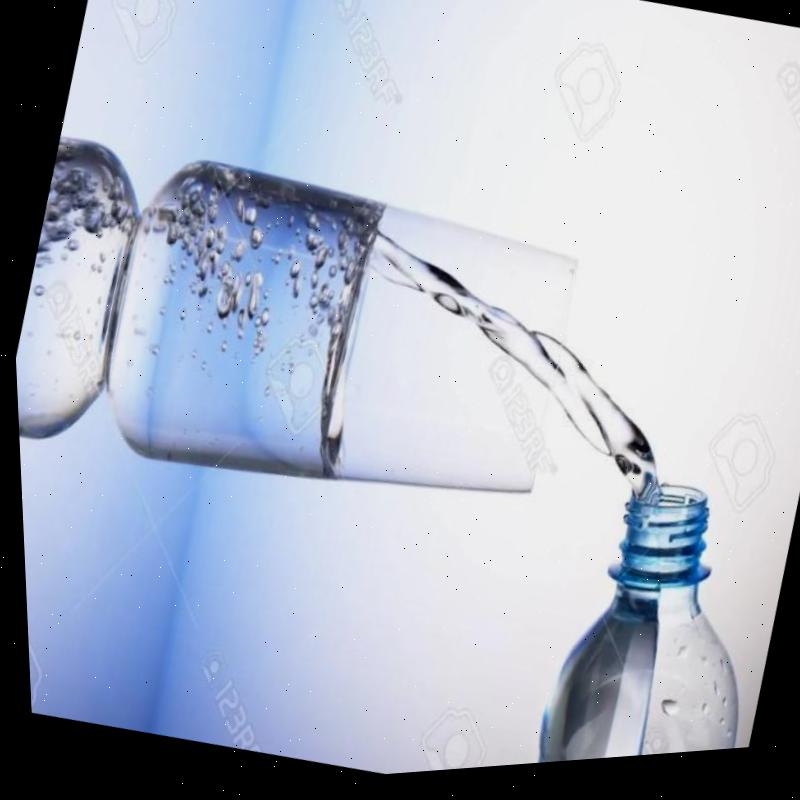botella: (506, 460, 791, 772)
